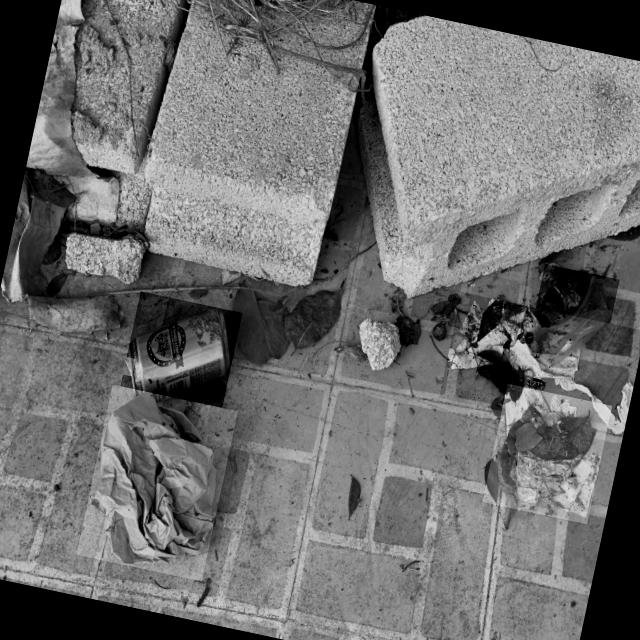Cup: (533, 275, 612, 369)
Drink can: (126, 308, 230, 401)
Paper: (90, 392, 216, 567)
Paper bag: (447, 298, 633, 435), (497, 389, 601, 518)
Pop tab: (124, 357, 131, 376)
